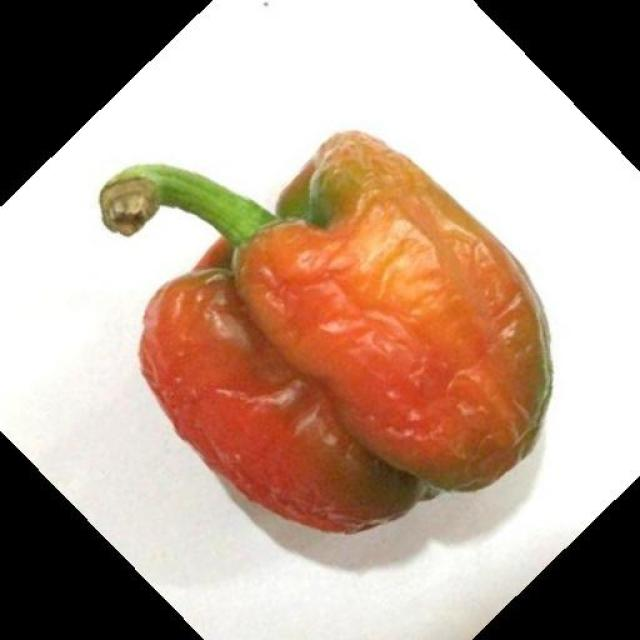Stale_Capsicum: (102, 106, 556, 525)
